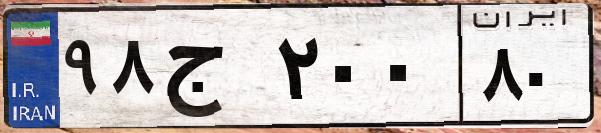0: (385, 28, 445, 110), (330, 28, 385, 110), (525, 38, 570, 115)
2: (270, 28, 330, 110)
8: (475, 38, 525, 113), (110, 28, 158, 98)
9: (57, 26, 110, 100)
ج: (158, 20, 270, 120)
